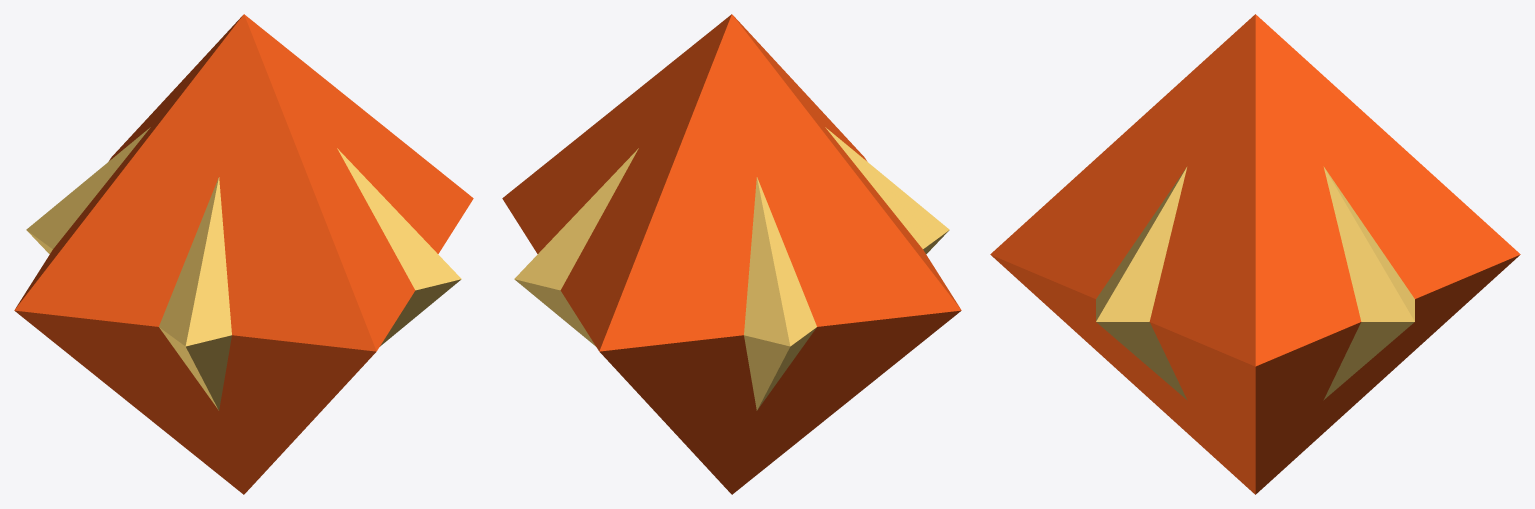
File: ghoul_fireball.glb
The picture shows the model from 3 angles, left to right: view 1: azimuth 30°, elevation 25°; view 2: azimuth 150°, elevation 25°; view 3: azimuth 270°, elevation 25°; orthographic projection.
Visible parts, largest first — view 1: ghoul_fireball; view 2: ghoul_fireball; view 3: ghoul_fireball.
Part boxes in pixels (x1,y1,x2,y2): ghoul_fireball: (14, 14, 473, 494); ghoul_fireball: (502, 14, 961, 494); ghoul_fireball: (990, 14, 1520, 494).
Bounding box in the file's own units: 0.52 × 0.52 × 0.52.
Materials: 1 (1 with a texture image).
